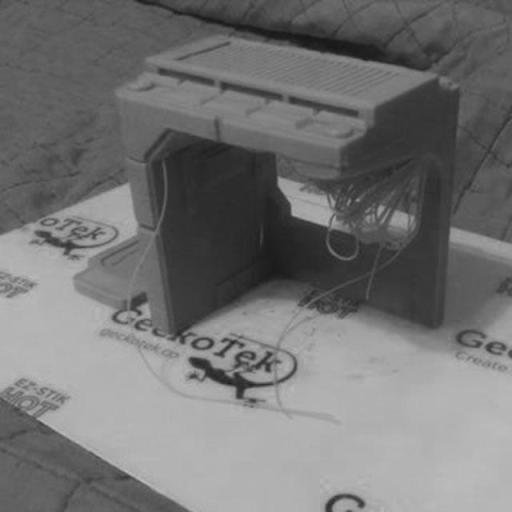spaghetti_and_stringing: (326, 156, 426, 300), (124, 155, 173, 319)
